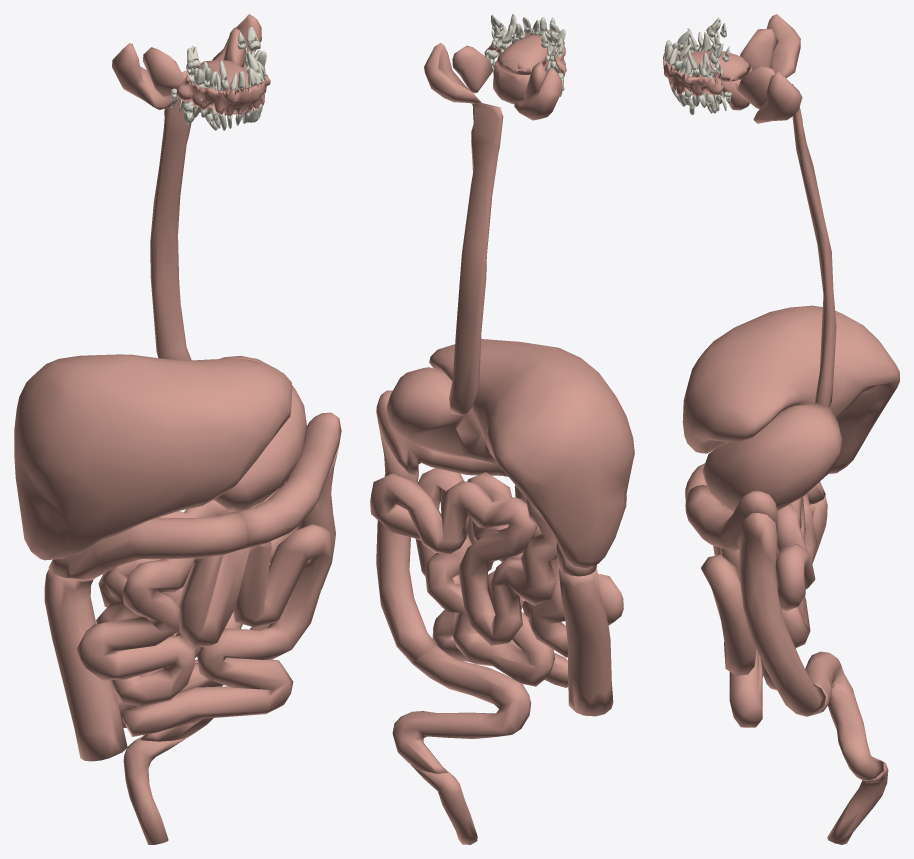
File: pediatric_child_10y_female.digestive.LOD2.glb
3 renders of one model, left to right at view 1: azimuth 30°, elevation 25°; view 2: azimuth 150°, elevation 25°; view 3: azimuth 270°, elevation 25°, orthographic. The views are drawn at different scales.
Visible parts, largest first — view 1: PEDIATRIC.CHILD_10Y.FEMALE.DIGESTIVE.LIVER, PEDIATRIC.CHILD_10Y.FEMALE.DIGESTIVE.SMALL_INTESTINE_WALL, PEDIATRIC.CHILD_10Y.FEMALE.DIGESTIVE.ASCENDING_COLON_WALL, PEDIATRIC.CHILD_10Y.FEMALE.DIGESTIVE.OESOPHAGUS_WALL, PEDIATRIC.CHILD_10Y.FEMALE.DIGESTIVE.TRANSVERSE_COLON_WALL.R, PEDIATRIC.CHILD_10Y.FEMALE.DIGESTIVE.TRANSVERSE_COLON_WALL.L, PEDIATRIC.CHILD_10Y.FEMALE.DIGESTIVE.STOMACH_WALL, PEDIATRIC.CHILD_10Y.FEMALE.DIGESTIVE.SALIVARY_GLANDS.R, PEDIATRIC.CHILD_10Y.FEMALE.DIGESTIVE.RECTUM_WALL, PEDIATRIC.CHILD_10Y.FEMALE.DIGESTIVE.PERMANENT_CEMENTUM, PEDIATRIC.CHILD_10Y.FEMALE.DIGESTIVE.ORAL_MUCOSA_LIP_AND_CHE, PEDIATRIC.CHILD_10Y.FEMALE.DIGESTIVE.DESCENDING_COLON_WALL (+3 smaller); view 2: PEDIATRIC.CHILD_10Y.FEMALE.DIGESTIVE.SMALL_INTESTINE_WALL, PEDIATRIC.CHILD_10Y.FEMALE.DIGESTIVE.LIVER, PEDIATRIC.CHILD_10Y.FEMALE.DIGESTIVE.OESOPHAGUS_WALL, PEDIATRIC.CHILD_10Y.FEMALE.DIGESTIVE.SIGMOID_COLON_WALL, PEDIATRIC.CHILD_10Y.FEMALE.DIGESTIVE.ASCENDING_COLON_WALL, PEDIATRIC.CHILD_10Y.FEMALE.DIGESTIVE.STOMACH_WALL, PEDIATRIC.CHILD_10Y.FEMALE.DIGESTIVE.DESCENDING_COLON_WALL, PEDIATRIC.CHILD_10Y.FEMALE.DIGESTIVE.SALIVARY_GLANDS.L, PEDIATRIC.CHILD_10Y.FEMALE.DIGESTIVE.TRANSVERSE_COLON_WALL.L, PEDIATRIC.CHILD_10Y.FEMALE.DIGESTIVE.RECTUM_WALL, PEDIATRIC.CHILD_10Y.FEMALE.DIGESTIVE.SALIVARY_GLANDS.R, PEDIATRIC.CHILD_10Y.FEMALE.DIGESTIVE.PERMANENT_CEMENTUM (+3 smaller); view 3: PEDIATRIC.CHILD_10Y.FEMALE.DIGESTIVE.LIVER, PEDIATRIC.CHILD_10Y.FEMALE.DIGESTIVE.SMALL_INTESTINE_WALL, PEDIATRIC.CHILD_10Y.FEMALE.DIGESTIVE.STOMACH_WALL, PEDIATRIC.CHILD_10Y.FEMALE.DIGESTIVE.DESCENDING_COLON_WALL, PEDIATRIC.CHILD_10Y.FEMALE.DIGESTIVE.SIGMOID_COLON_WALL, PEDIATRIC.CHILD_10Y.FEMALE.DIGESTIVE.OESOPHAGUS_WALL, PEDIATRIC.CHILD_10Y.FEMALE.DIGESTIVE.TRANSVERSE_COLON_WALL.L, PEDIATRIC.CHILD_10Y.FEMALE.DIGESTIVE.SALIVARY_GLANDS.L, PEDIATRIC.CHILD_10Y.FEMALE.DIGESTIVE.SALIVARY_GLANDS.R, PEDIATRIC.CHILD_10Y.FEMALE.DIGESTIVE.PERMANENT_CEMENTUM, PEDIATRIC.CHILD_10Y.FEMALE.DIGESTIVE.RECTUM_WALL, PEDIATRIC.CHILD_10Y.FEMALE.DIGESTIVE.ORAL_MUCOSA_LIP_AND_CHE (+5 smaller).
Boxes of the visible parts, x1=… form: PEDIATRIC.CHILD_10Y.FEMALE.DIGESTIVE.LIVER: x1=14, y1=354, x2=292, y2=560; PEDIATRIC.CHILD_10Y.FEMALE.DIGESTIVE.SMALL_INTESTINE_WALL: x1=77, y1=481, x2=331, y2=736; PEDIATRIC.CHILD_10Y.FEMALE.DIGESTIVE.ASCENDING_COLON_WALL: x1=44, y1=569, x2=127, y2=761; PEDIATRIC.CHILD_10Y.FEMALE.DIGESTIVE.OESOPHAGUS_WALL: x1=150, y1=69, x2=191, y2=360; PEDIATRIC.CHILD_10Y.FEMALE.DIGESTIVE.TRANSVERSE_COLON_WALL.R: x1=48, y1=512, x2=247, y2=579; PEDIATRIC.CHILD_10Y.FEMALE.DIGESTIVE.TRANSVERSE_COLON_WALL.L: x1=234, y1=412, x2=341, y2=549; PEDIATRIC.CHILD_10Y.FEMALE.DIGESTIVE.STOMACH_WALL: x1=214, y1=355, x2=306, y2=511; PEDIATRIC.CHILD_10Y.FEMALE.DIGESTIVE.SALIVARY_GLANDS.R: x1=112, y1=43, x2=226, y2=115; PEDIATRIC.CHILD_10Y.FEMALE.DIGESTIVE.RECTUM_WALL: x1=123, y1=735, x2=190, y2=844; PEDIATRIC.CHILD_10Y.FEMALE.DIGESTIVE.PERMANENT_CEMENTUM: x1=171, y1=27, x2=266, y2=130; PEDIATRIC.CHILD_10Y.FEMALE.DIGESTIVE.ORAL_MUCOSA_LIP_AND_CHE: x1=176, y1=67, x2=270, y2=116; PEDIATRIC.CHILD_10Y.FEMALE.DIGESTIVE.DESCENDING_COLON_WALL: x1=249, y1=439, x2=340, y2=630; PEDIATRIC.CHILD_10Y.FEMALE.DIGESTIVE.SMALL_INTESTINE_WALL: x1=370, y1=468, x2=623, y2=687; PEDIATRIC.CHILD_10Y.FEMALE.DIGESTIVE.LIVER: x1=429, y1=339, x2=634, y2=568; PEDIATRIC.CHILD_10Y.FEMALE.DIGESTIVE.OESOPHAGUS_WALL: x1=449, y1=102, x2=503, y2=415; PEDIATRIC.CHILD_10Y.FEMALE.DIGESTIVE.SIGMOID_COLON_WALL: x1=392, y1=645, x2=530, y2=773; PEDIATRIC.CHILD_10Y.FEMALE.DIGESTIVE.ASCENDING_COLON_WALL: x1=558, y1=567, x2=613, y2=716; PEDIATRIC.CHILD_10Y.FEMALE.DIGESTIVE.STOMACH_WALL: x1=387, y1=367, x2=497, y2=463; PEDIATRIC.CHILD_10Y.FEMALE.DIGESTIVE.DESCENDING_COLON_WALL: x1=376, y1=410, x2=436, y2=663; PEDIATRIC.CHILD_10Y.FEMALE.DIGESTIVE.SALIVARY_GLANDS.L: x1=424, y1=42, x2=493, y2=103; PEDIATRIC.CHILD_10Y.FEMALE.DIGESTIVE.TRANSVERSE_COLON_WALL.L: x1=376, y1=390, x2=508, y2=476; PEDIATRIC.CHILD_10Y.FEMALE.DIGESTIVE.RECTUM_WALL: x1=410, y1=764, x2=477, y2=844; PEDIATRIC.CHILD_10Y.FEMALE.DIGESTIVE.SALIVARY_GLANDS.R: x1=514, y1=62, x2=562, y2=120; PEDIATRIC.CHILD_10Y.FEMALE.DIGESTIVE.PERMANENT_CEMENTUM: x1=490, y1=14, x2=565, y2=96; PEDIATRIC.CHILD_10Y.FEMALE.DIGESTIVE.LIVER: x1=682, y1=305, x2=899, y2=473; PEDIATRIC.CHILD_10Y.FEMALE.DIGESTIVE.SMALL_INTESTINE_WALL: x1=701, y1=493, x2=817, y2=727; PEDIATRIC.CHILD_10Y.FEMALE.DIGESTIVE.STOMACH_WALL: x1=702, y1=403, x2=841, y2=511; PEDIATRIC.CHILD_10Y.FEMALE.DIGESTIVE.DESCENDING_COLON_WALL: x1=736, y1=513, x2=825, y2=716; PEDIATRIC.CHILD_10Y.FEMALE.DIGESTIVE.SIGMOID_COLON_WALL: x1=805, y1=651, x2=883, y2=781; PEDIATRIC.CHILD_10Y.FEMALE.DIGESTIVE.OESOPHAGUS_WALL: x1=792, y1=84, x2=836, y2=406; PEDIATRIC.CHILD_10Y.FEMALE.DIGESTIVE.TRANSVERSE_COLON_WALL.L: x1=685, y1=485, x2=777, y2=551; PEDIATRIC.CHILD_10Y.FEMALE.DIGESTIVE.SALIVARY_GLANDS.L: x1=706, y1=66, x2=802, y2=123; PEDIATRIC.CHILD_10Y.FEMALE.DIGESTIVE.SALIVARY_GLANDS.R: x1=740, y1=14, x2=800, y2=78; PEDIATRIC.CHILD_10Y.FEMALE.DIGESTIVE.PERMANENT_CEMENTUM: x1=664, y1=17, x2=730, y2=114; PEDIATRIC.CHILD_10Y.FEMALE.DIGESTIVE.RECTUM_WALL: x1=827, y1=759, x2=888, y2=844; PEDIATRIC.CHILD_10Y.FEMALE.DIGESTIVE.ORAL_MUCOSA_LIP_AND_CHE: x1=663, y1=45, x2=722, y2=96.
Bounding box in the file's own units: 0.2206 × 0.6226 × 0.1641.
